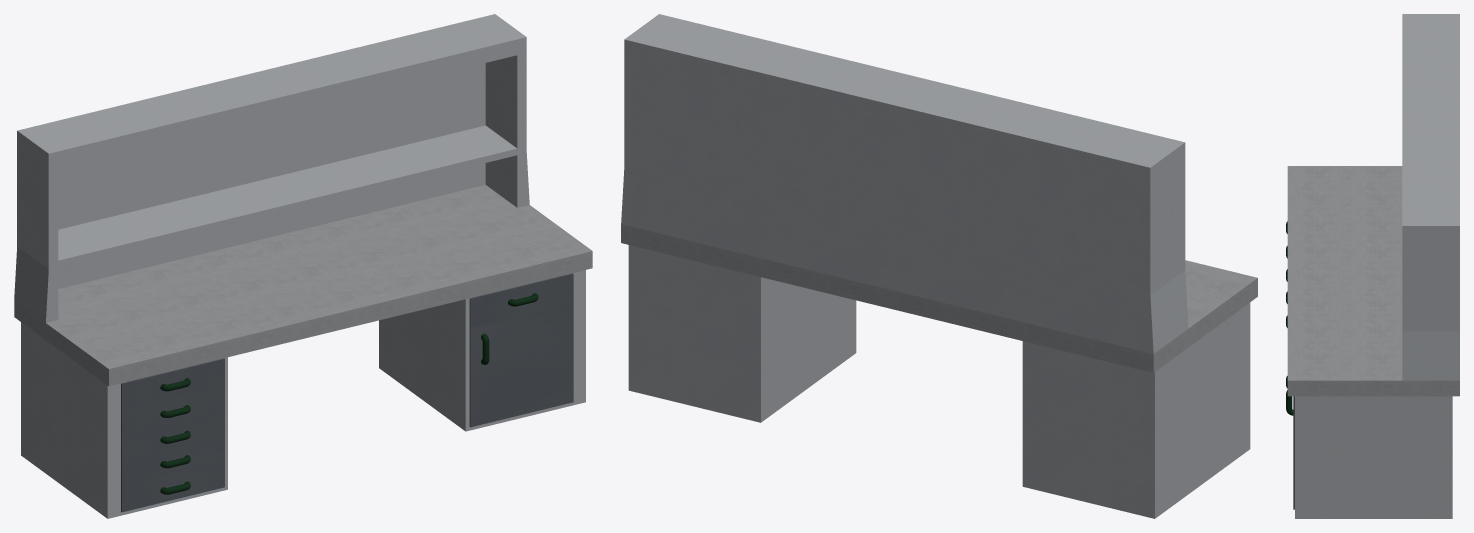
The model's file is Table.fbx.
3 views of the same model, side by side, from view 1: azimuth 30°, elevation 25°; view 2: azimuth 150°, elevation 25°; view 3: azimuth 270°, elevation 25° (orthographic). The views are drawn at different scales.
Visible parts, largest first — view 1: Cube; view 2: Cube; view 3: Cube.
Boxes of the visible parts, <box> form: Cube: <box>14,14,592,518</box>; Cube: <box>621,14,1257,518</box>; Cube: <box>1286,14,1459,518</box>.
Size of the model in its own units: 590 by 375 by 202.
